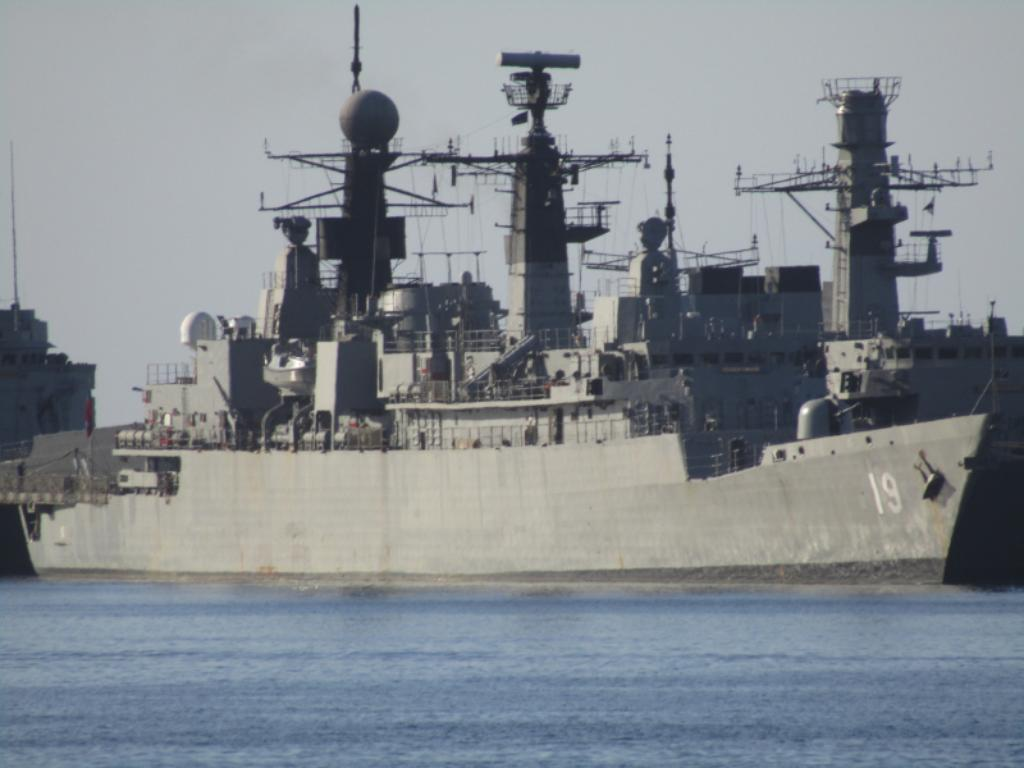Warship: (0, 23, 998, 584)
